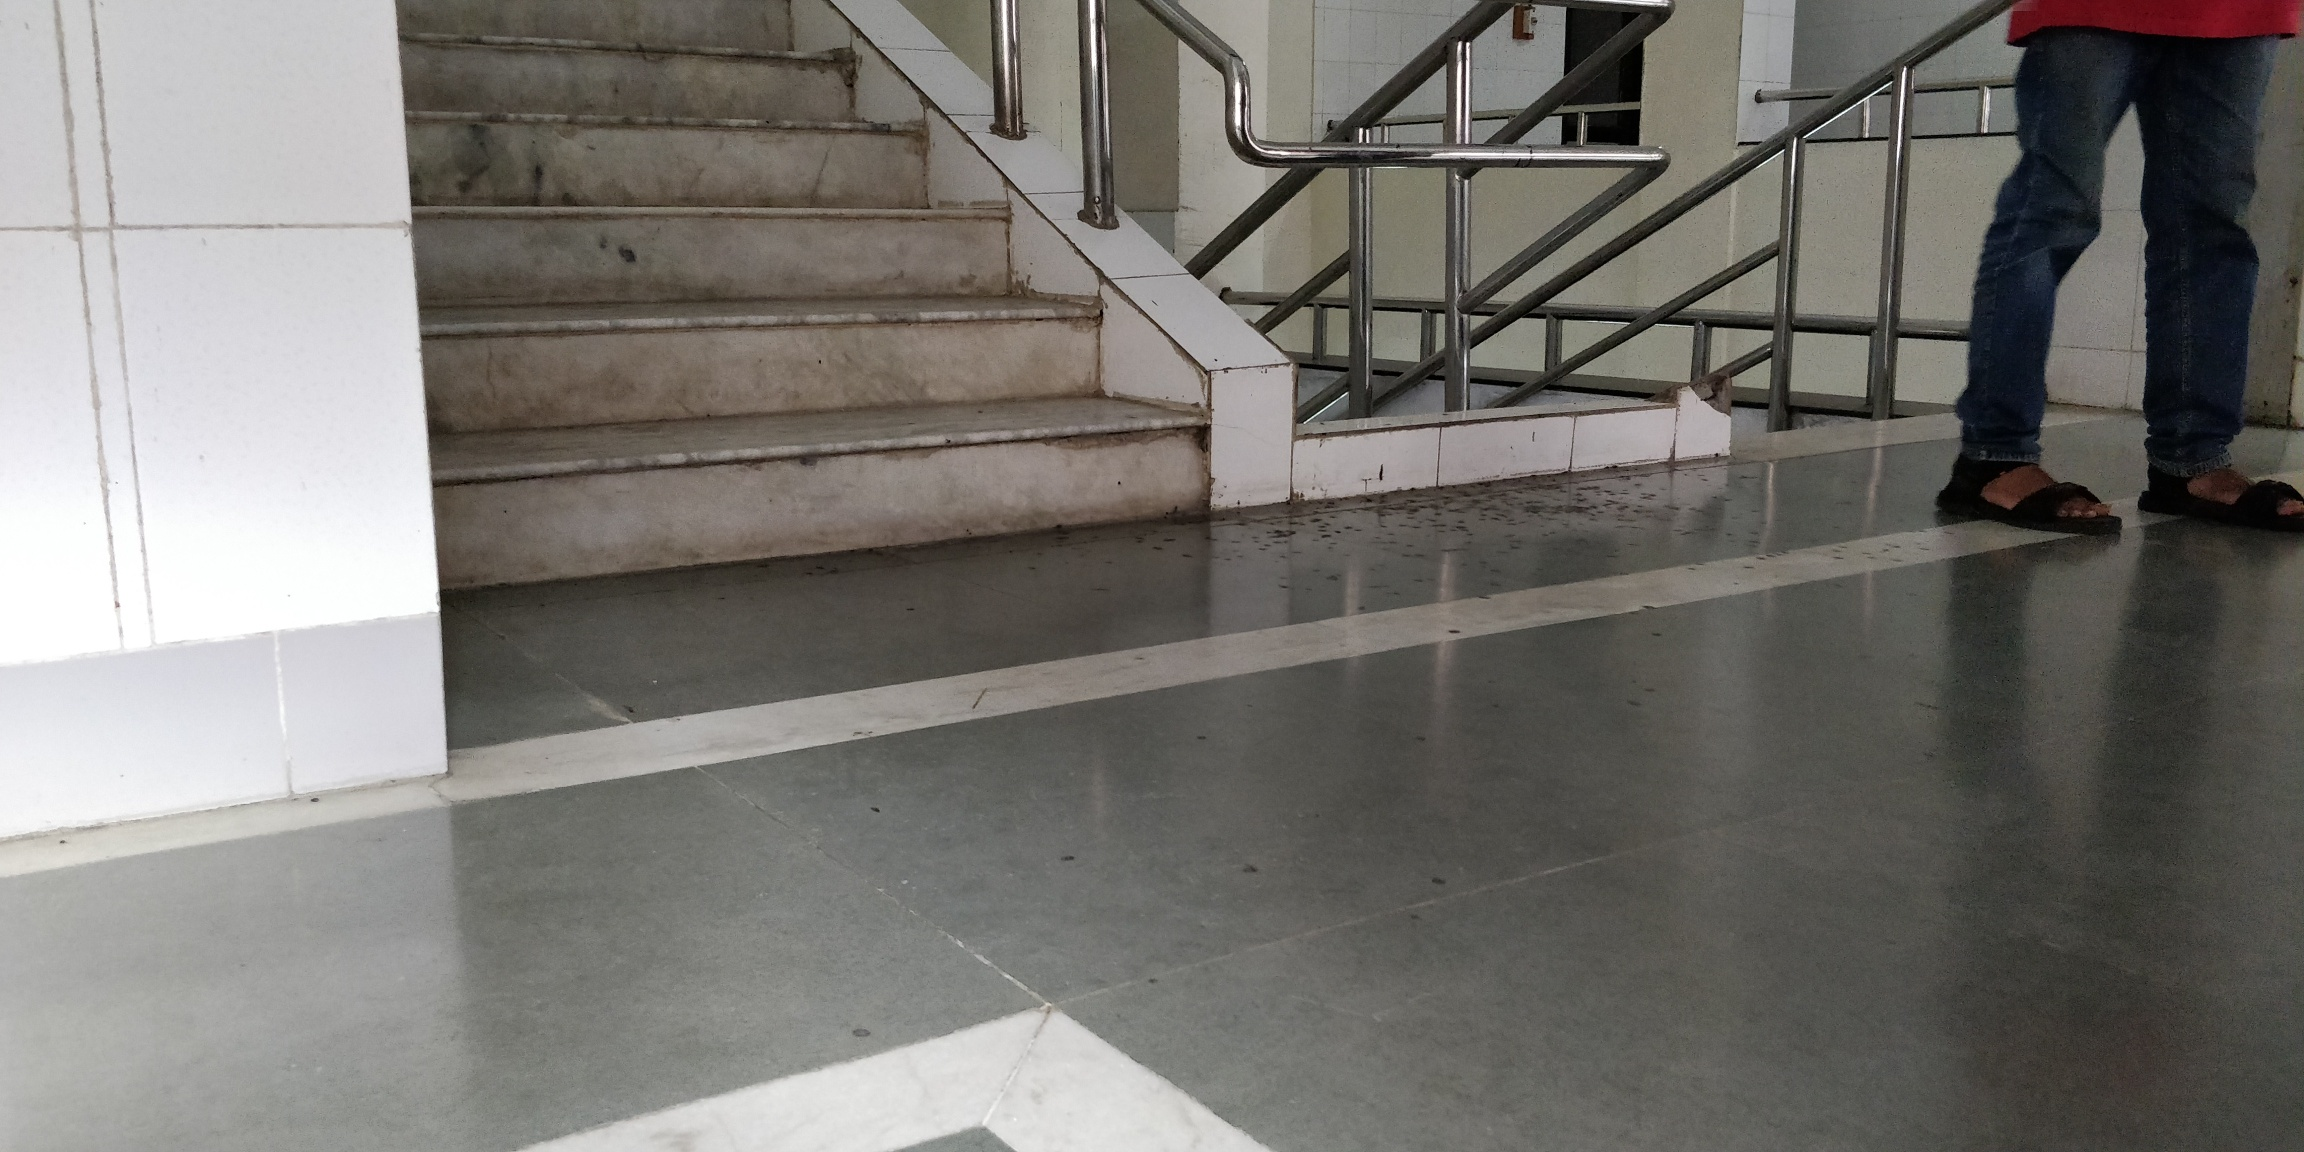stairs_up: (414, 18, 1227, 601)
